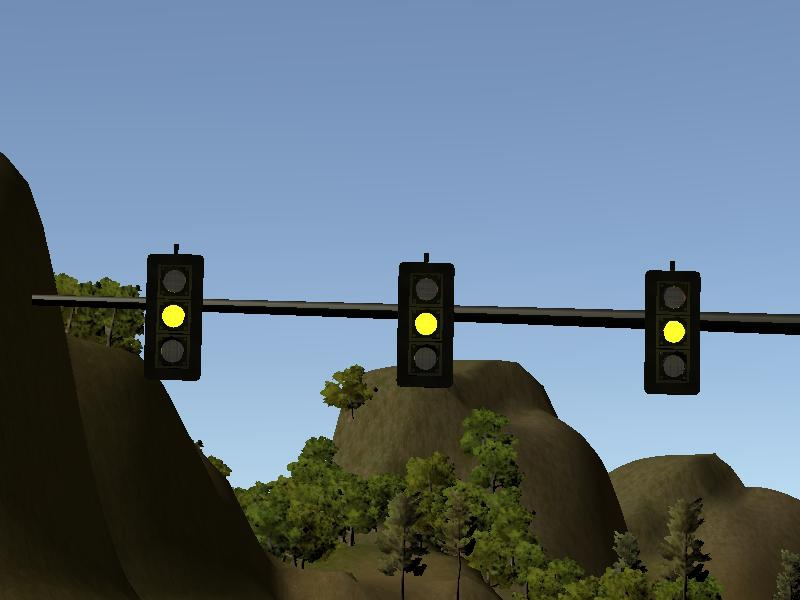Yellow: (646, 270, 700, 396), (398, 263, 451, 388), (147, 254, 199, 381)
